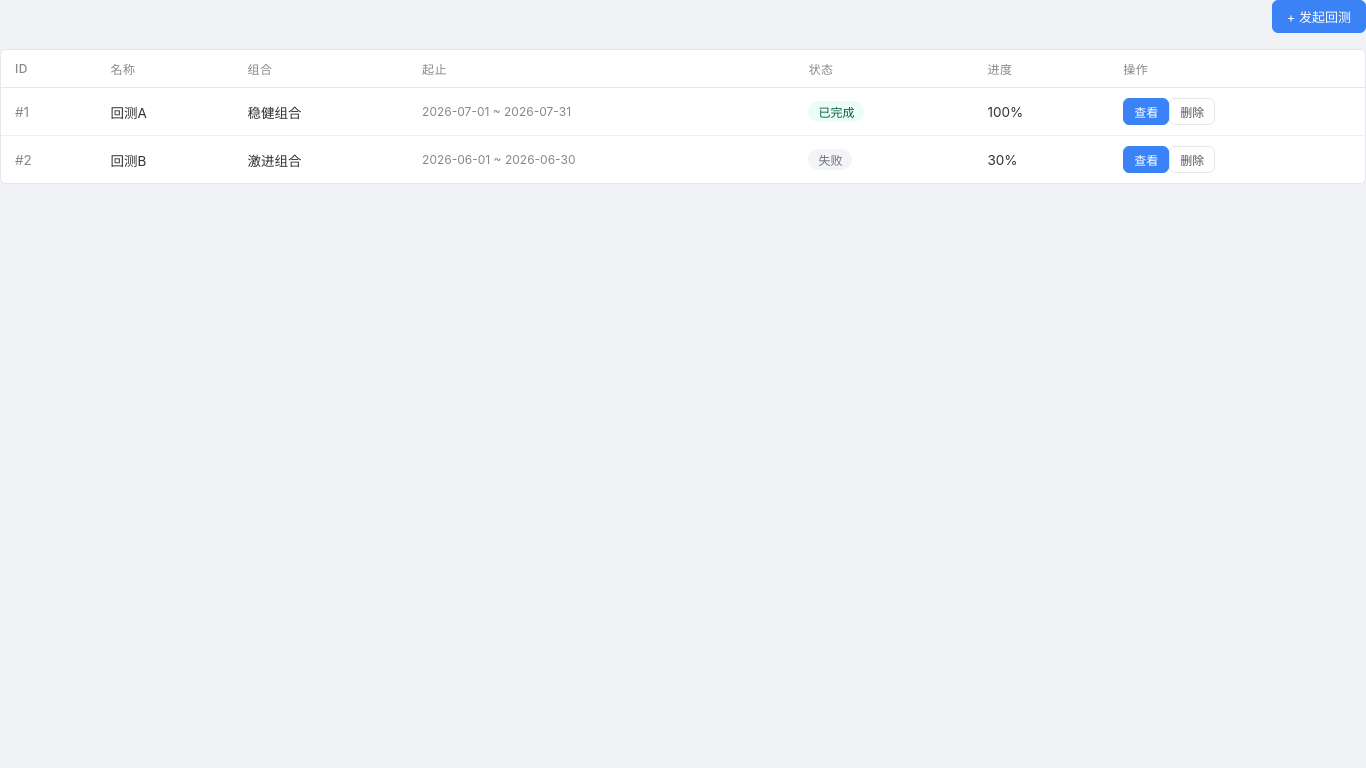
Test: Backtest.vue — 详情视图 › 评估指标百分比显示（total_return 0.05 → 5%）
Click the button "查看" in the row of "#1".
click(1146, 112)  # box [1123,98,1169,125]
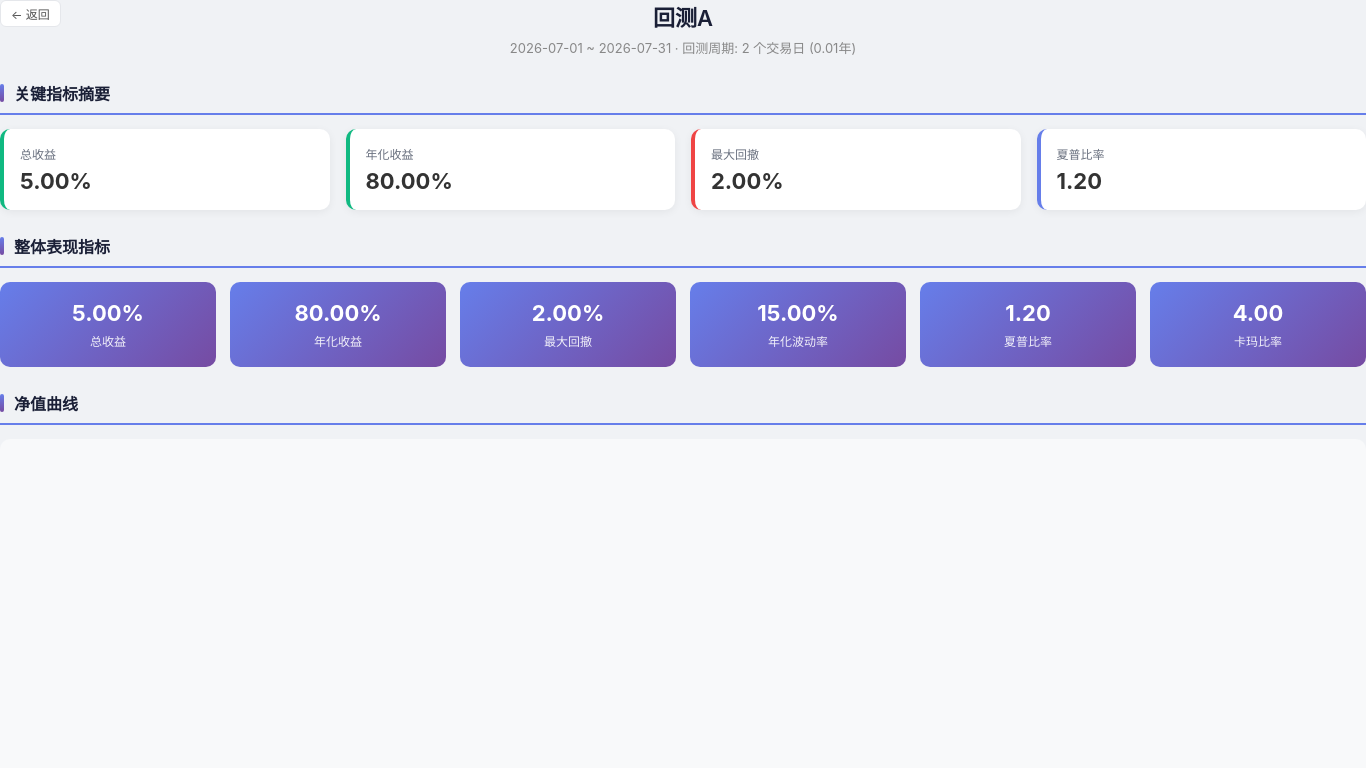
Now the text "5.00%" is shown, box [20,168,92,194]
Now the text "2.00%" is shown, box [711,168,784,194]
